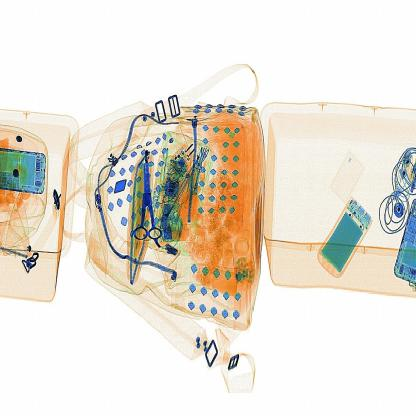gun: (124, 141, 166, 247)
